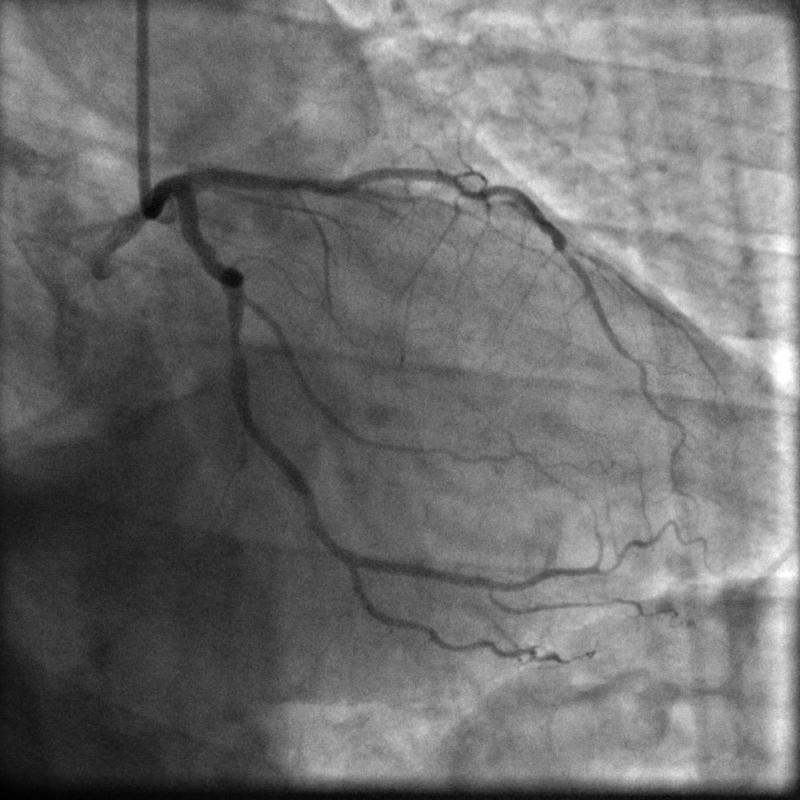Stenosis: (225, 330, 242, 358)
